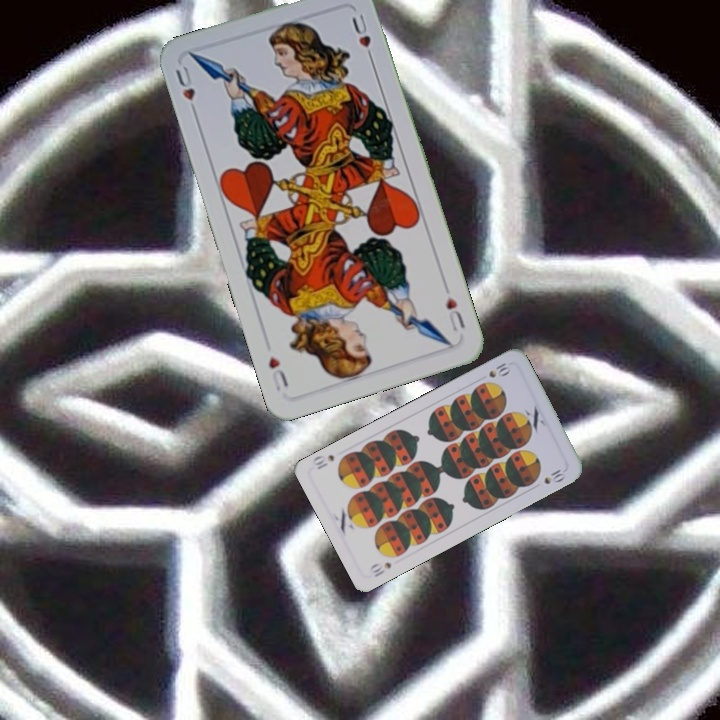HU: (171, 62, 200, 119), (440, 281, 468, 334)
S10: (365, 558, 394, 580), (485, 359, 513, 381)
